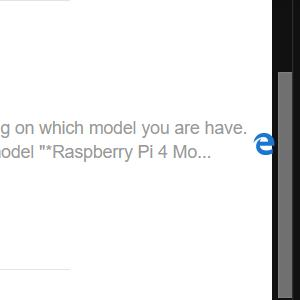edge: (253, 133, 275, 155)
